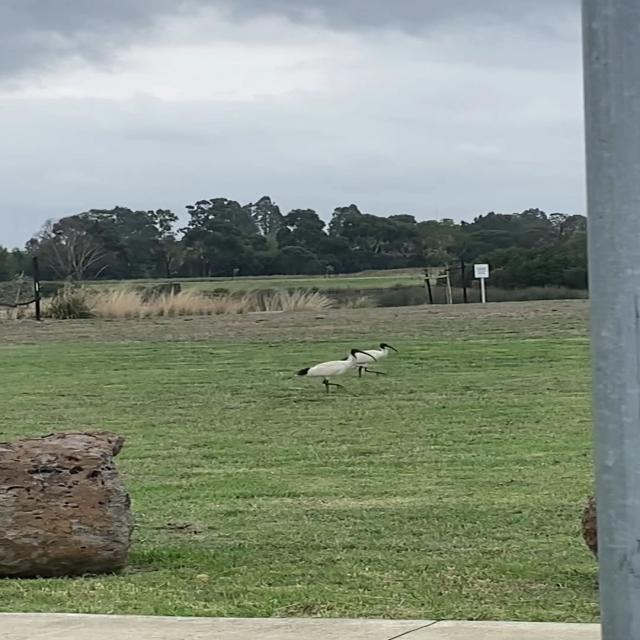Birds-Ibis: (292, 345, 379, 397), (357, 338, 400, 380)
